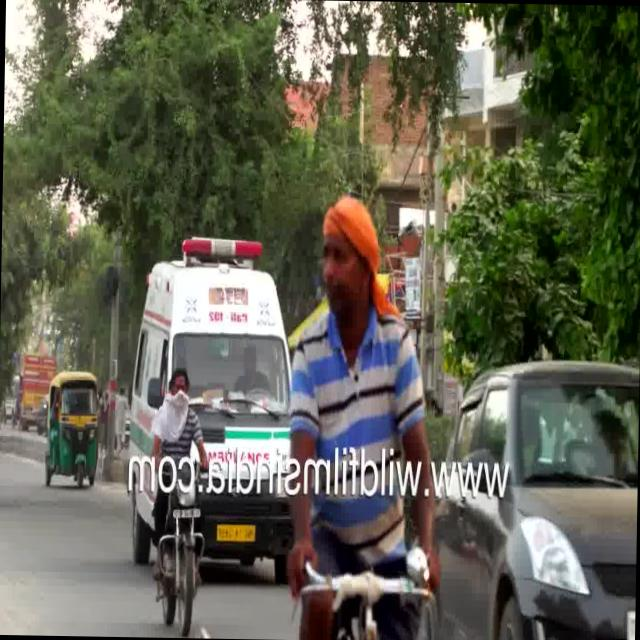ambulance: (123, 227, 296, 439)
